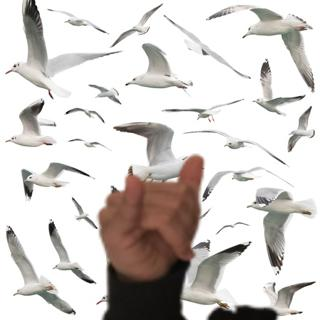HAVE: (93, 149, 213, 283)
